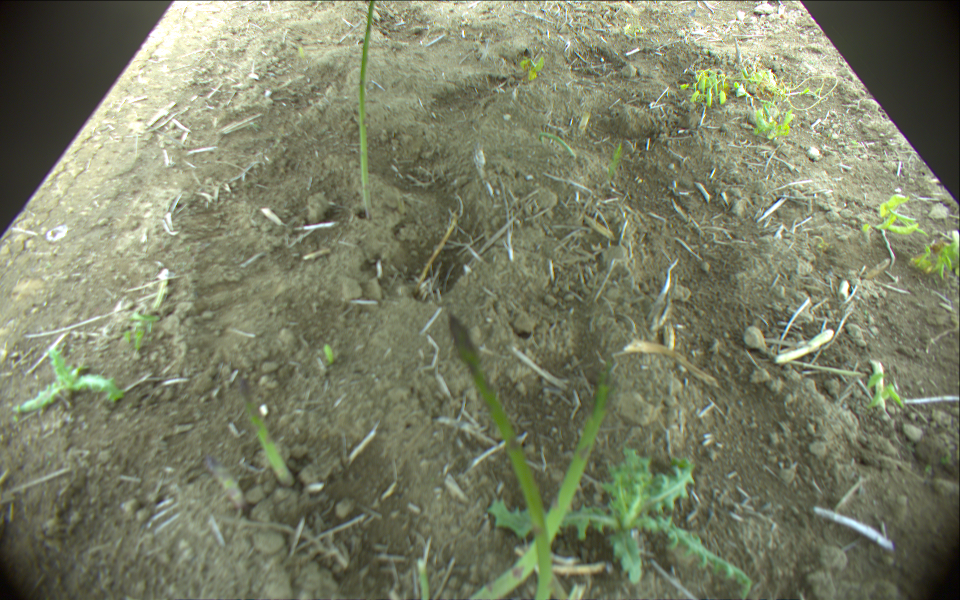aspa: (463, 375, 613, 600), (443, 313, 557, 600), (228, 369, 295, 490), (357, 1, 377, 222), (204, 455, 245, 501), (417, 561, 430, 600)
